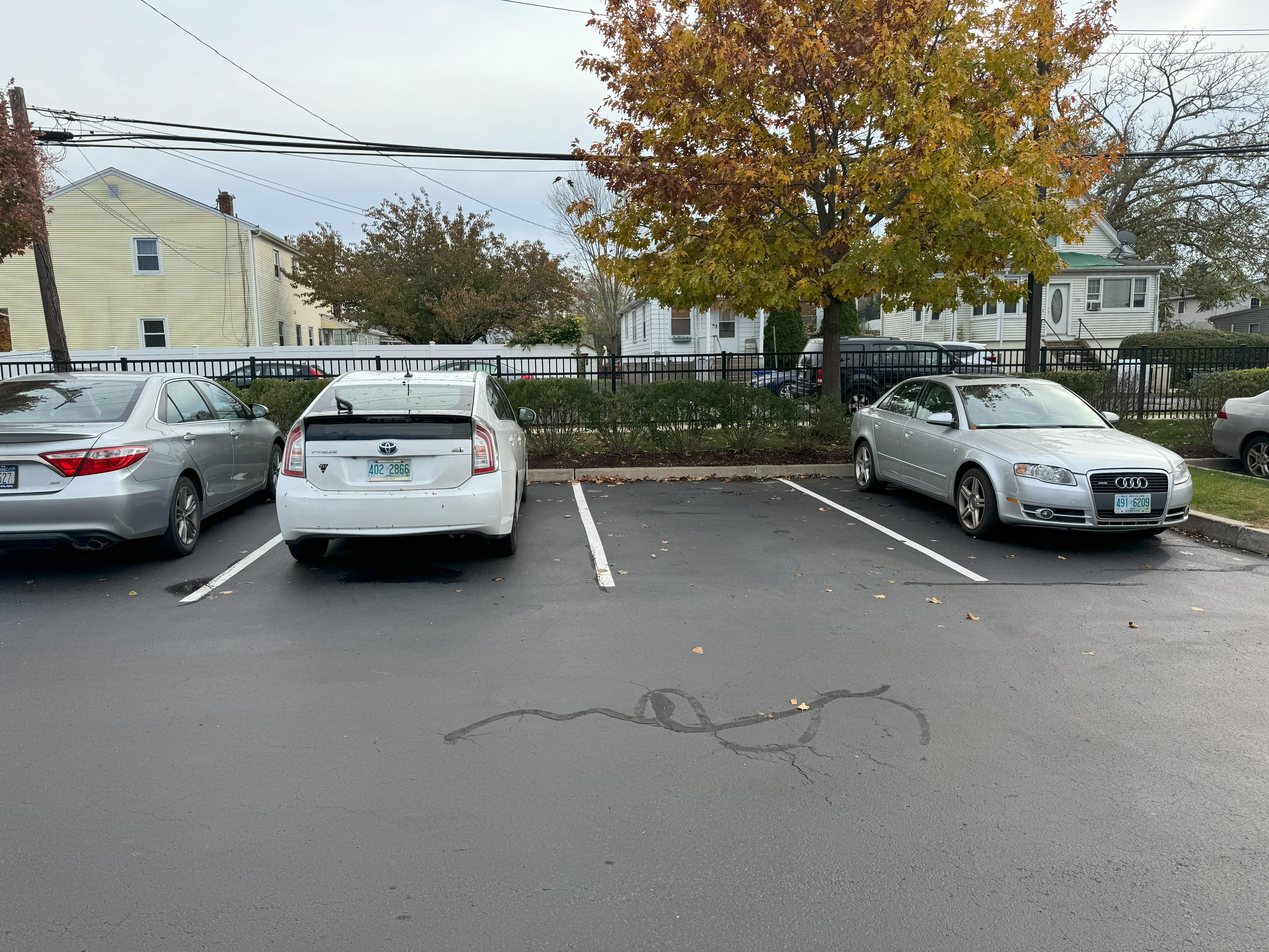empty: (611, 494, 899, 639)
occupied: (256, 360, 549, 579), (865, 363, 1202, 549), (18, 336, 242, 597)
